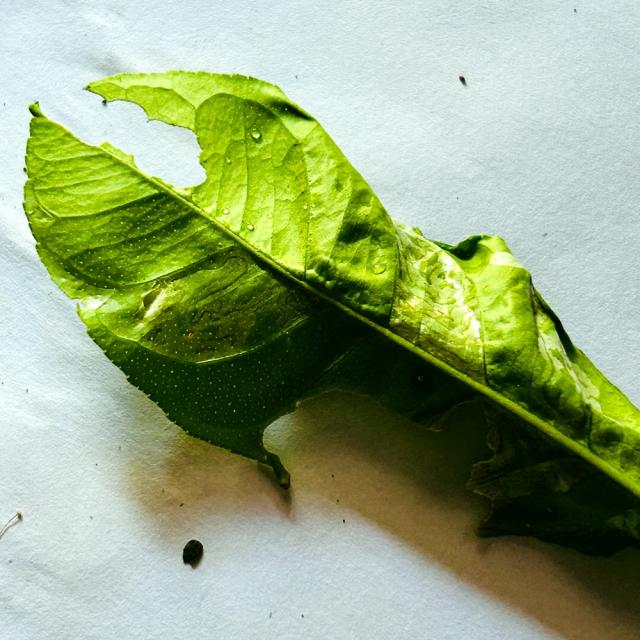Deficiency Leaf: (277, 80, 491, 252), (264, 390, 492, 529), (28, 95, 204, 191)
Lemon: (23, 71, 639, 554)
